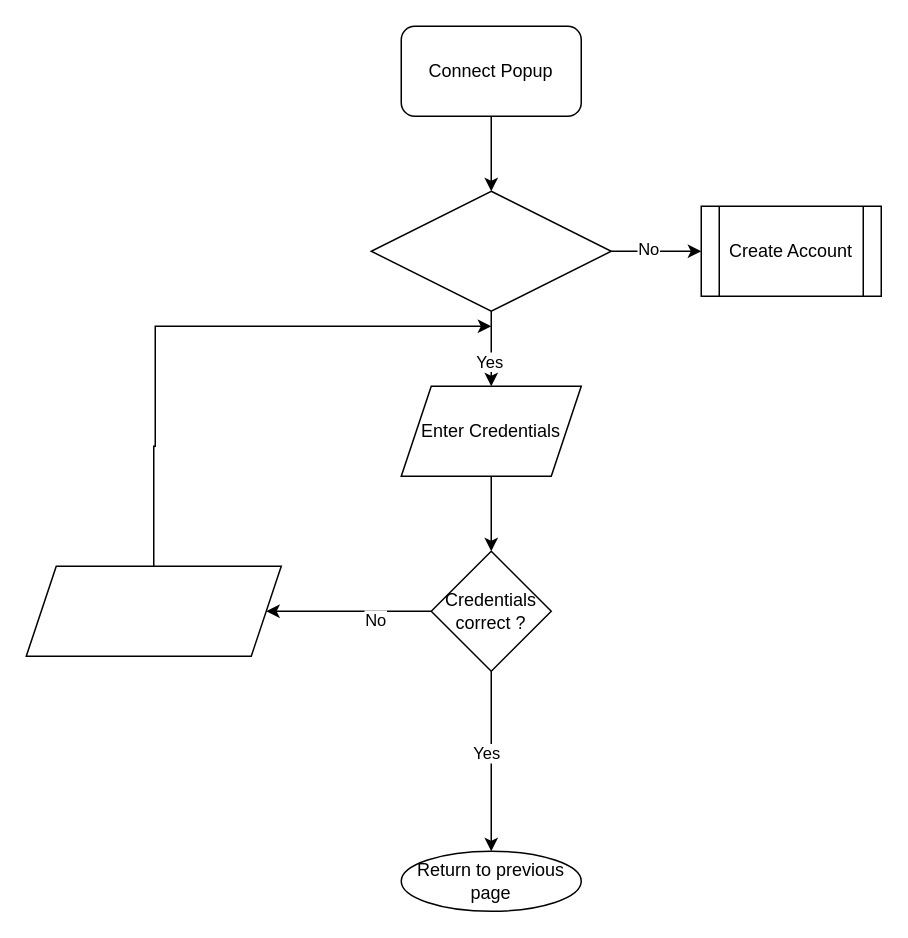
Some shapes in this 908 by 938 pixel diagram are drawn without their labels. The shapes that lost their labels are listed below. From the top down, each one's centre as x and y in pixels, then its label:
the point at 490,250: User Have an account ?
the point at 153,610: Show Error Message
